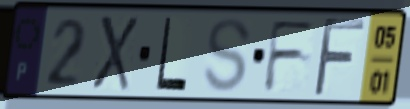2: (44, 16, 89, 90)
F: (310, 15, 368, 100), (261, 18, 318, 95)
L: (153, 14, 190, 94)
S: (200, 16, 254, 96)
X: (88, 13, 140, 94)
